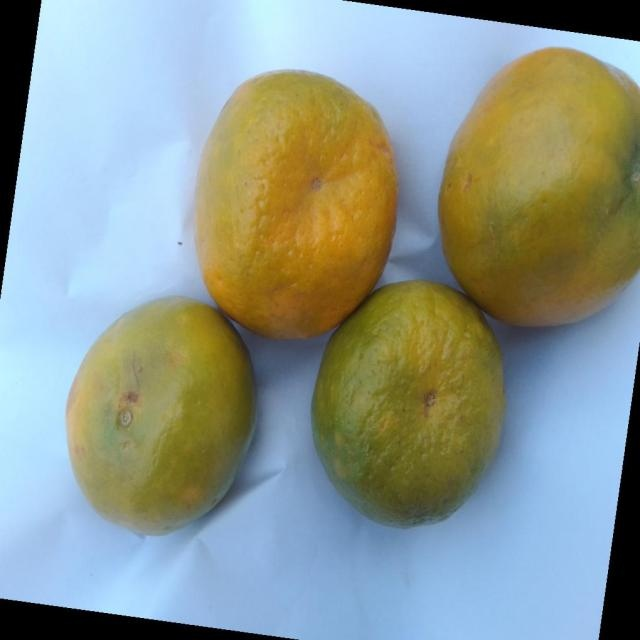agrume: (437, 45, 639, 328), (193, 67, 398, 339), (310, 279, 506, 528), (64, 294, 257, 536)
